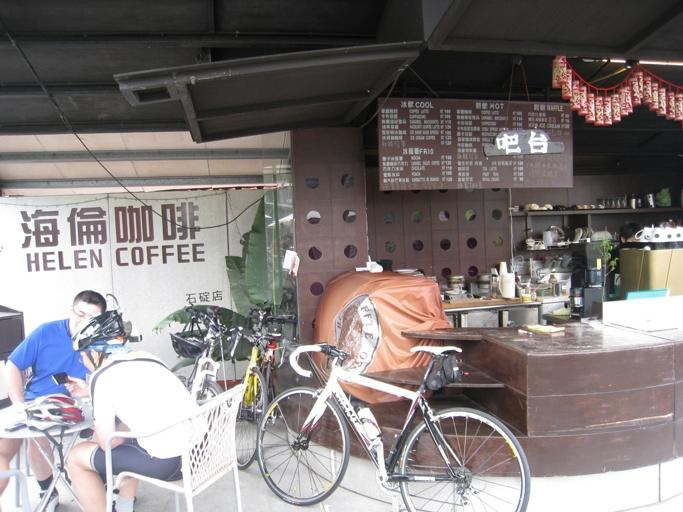non-vehicle: (255, 331, 534, 511), (224, 300, 297, 470), (159, 301, 233, 448)
